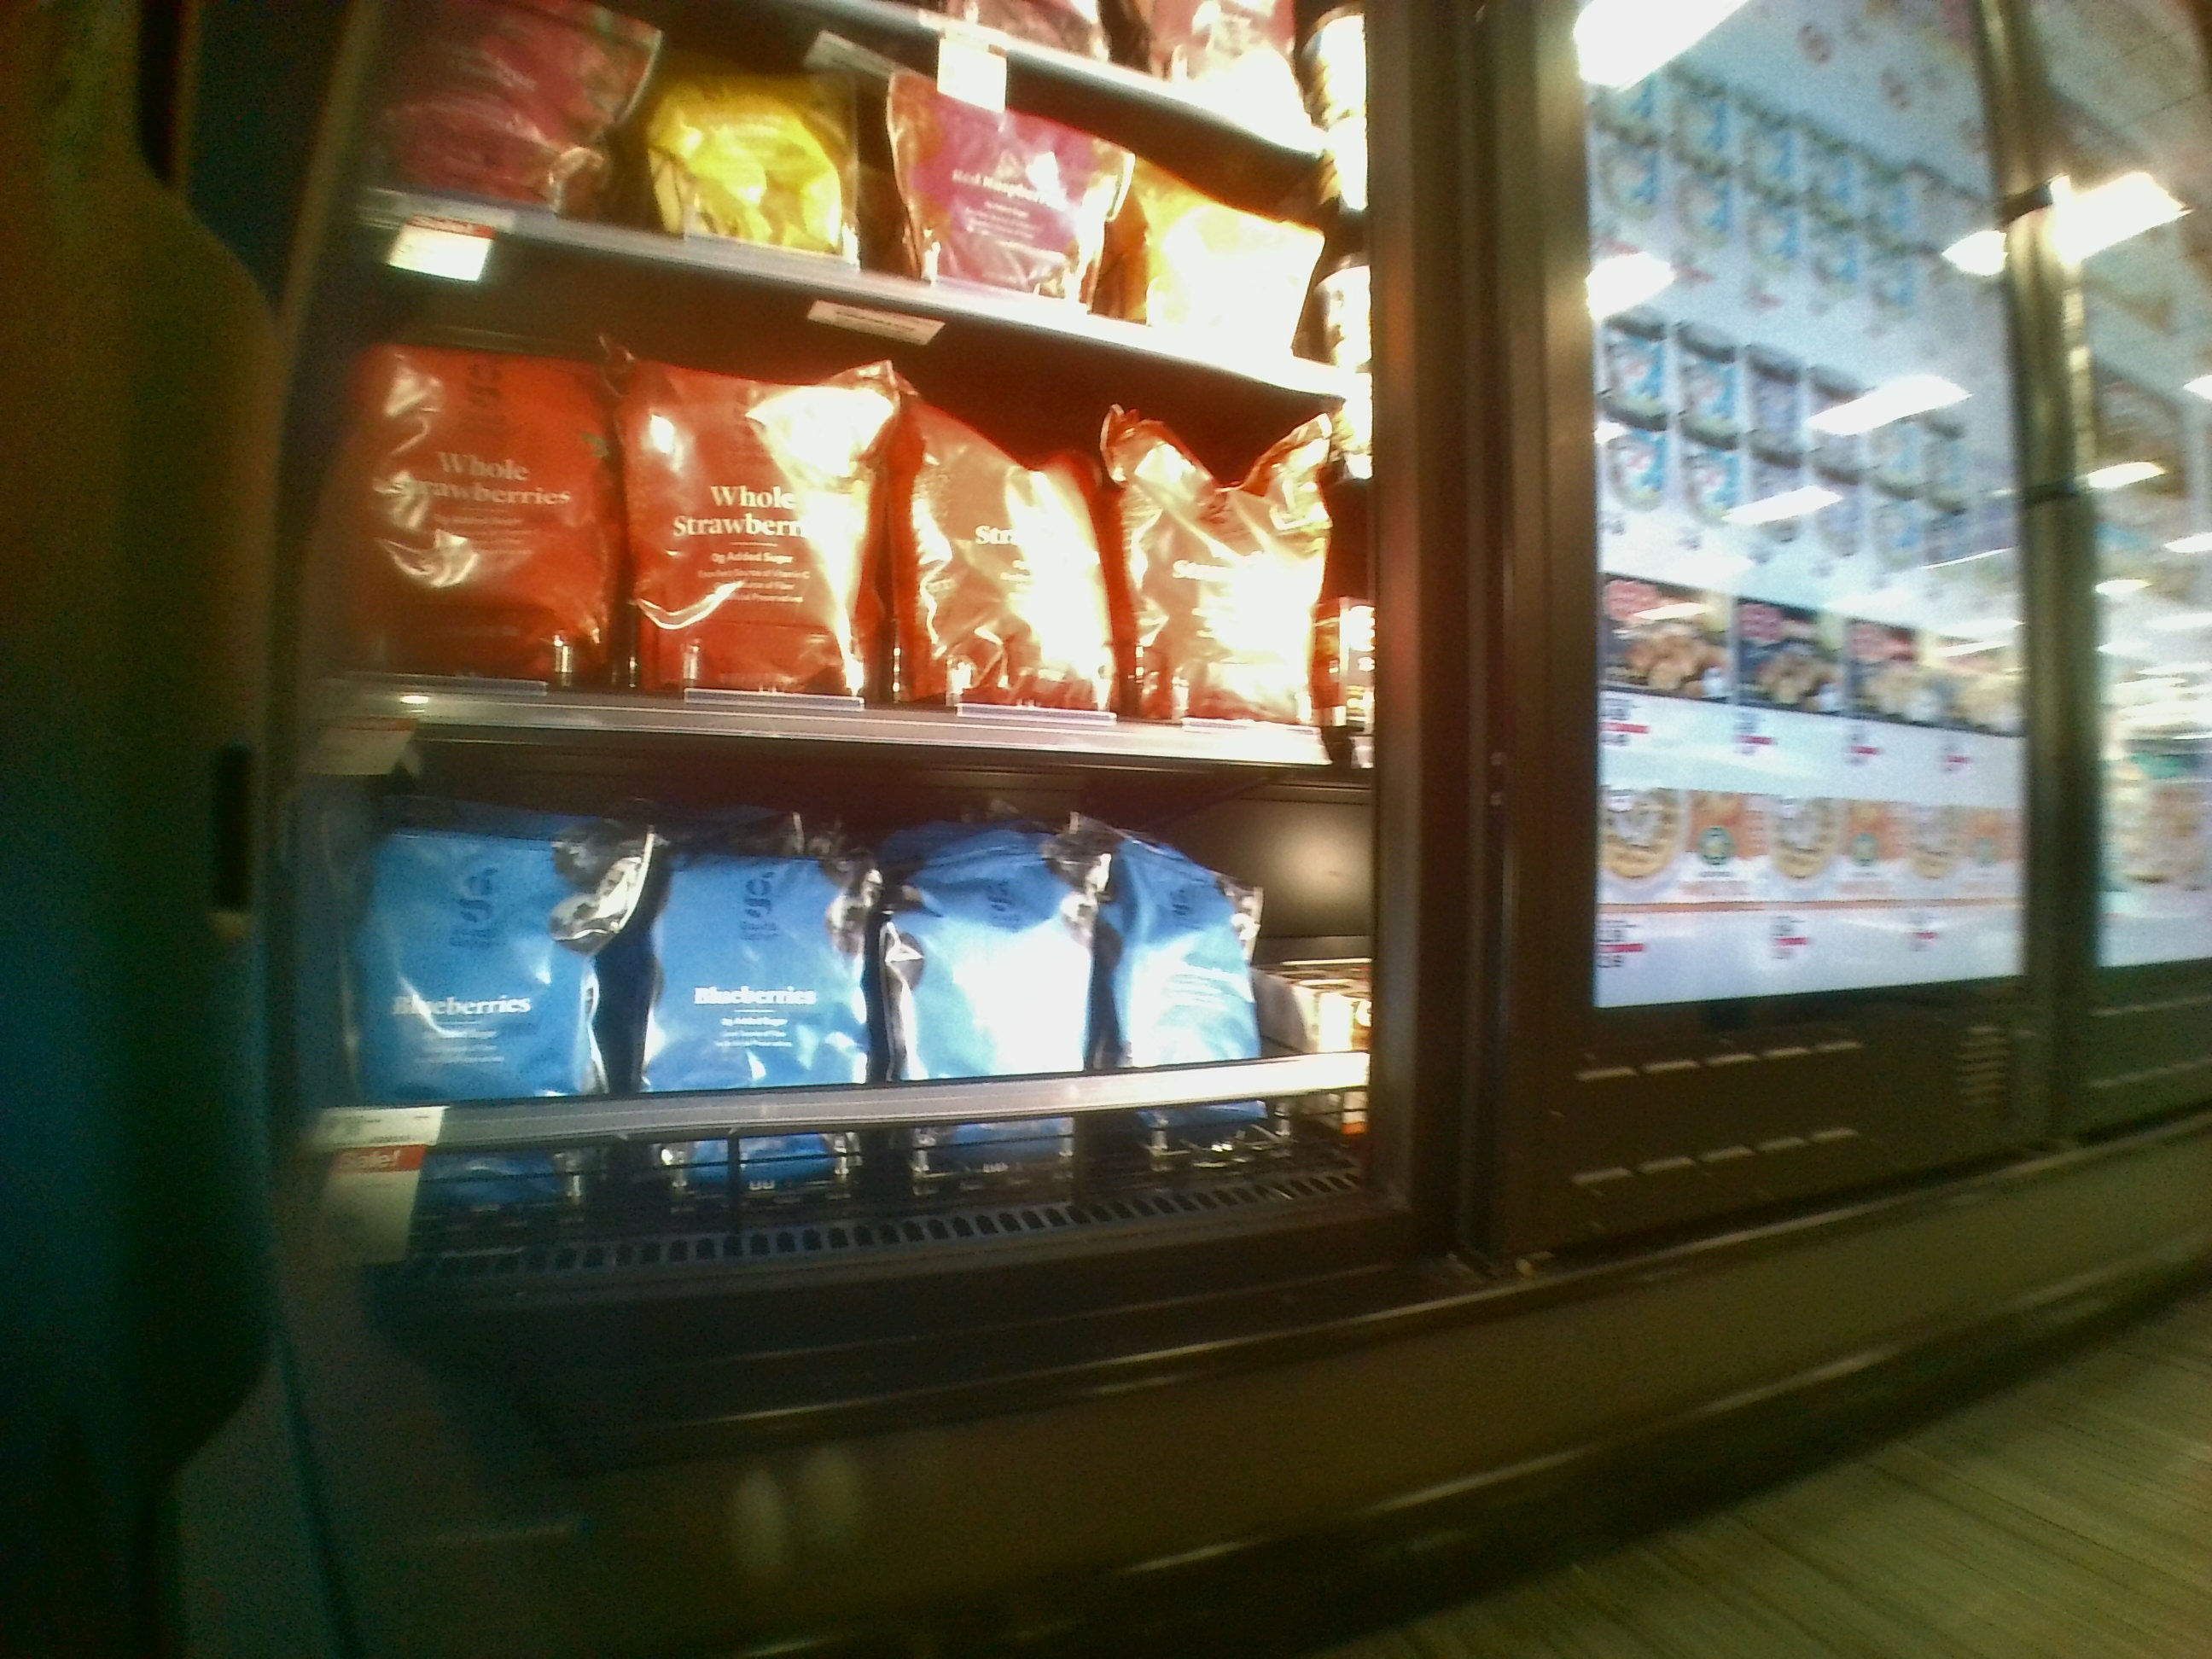shelf: (314, 751, 1379, 1227), (317, 368, 1357, 765)
